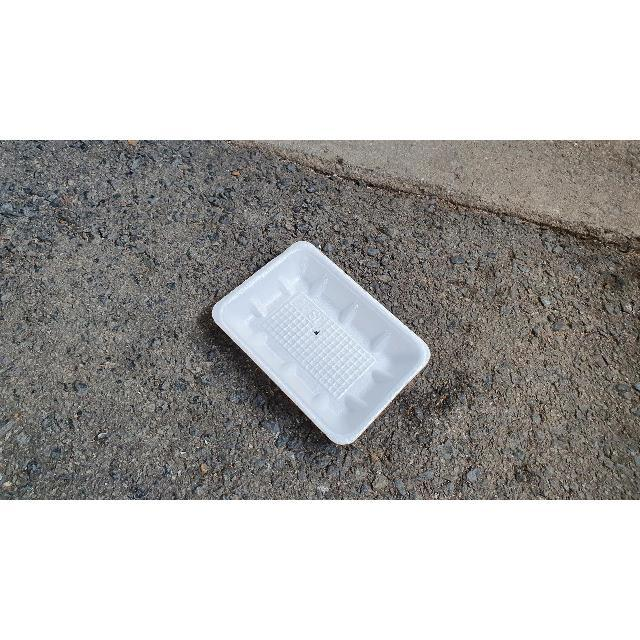Plastico descartable: (210, 242, 431, 448)
